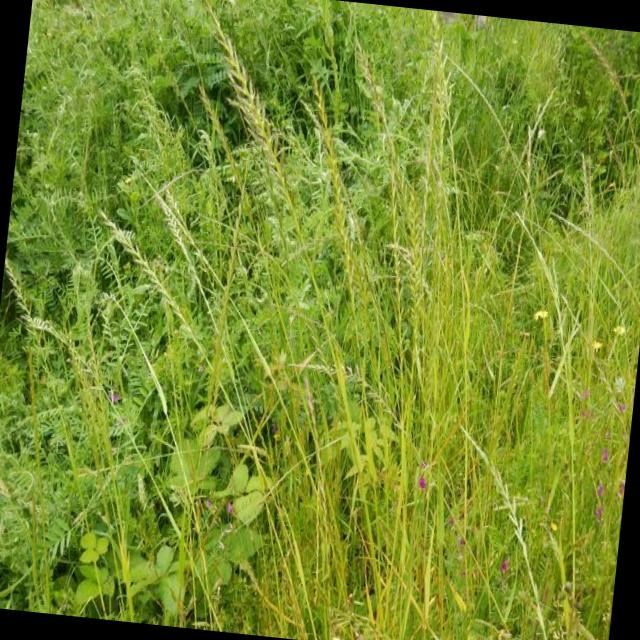Lolium: (1, 7, 585, 640), (390, 44, 516, 570), (440, 430, 577, 640), (194, 26, 308, 198), (288, 72, 376, 282), (92, 212, 196, 326), (20, 316, 110, 394)
